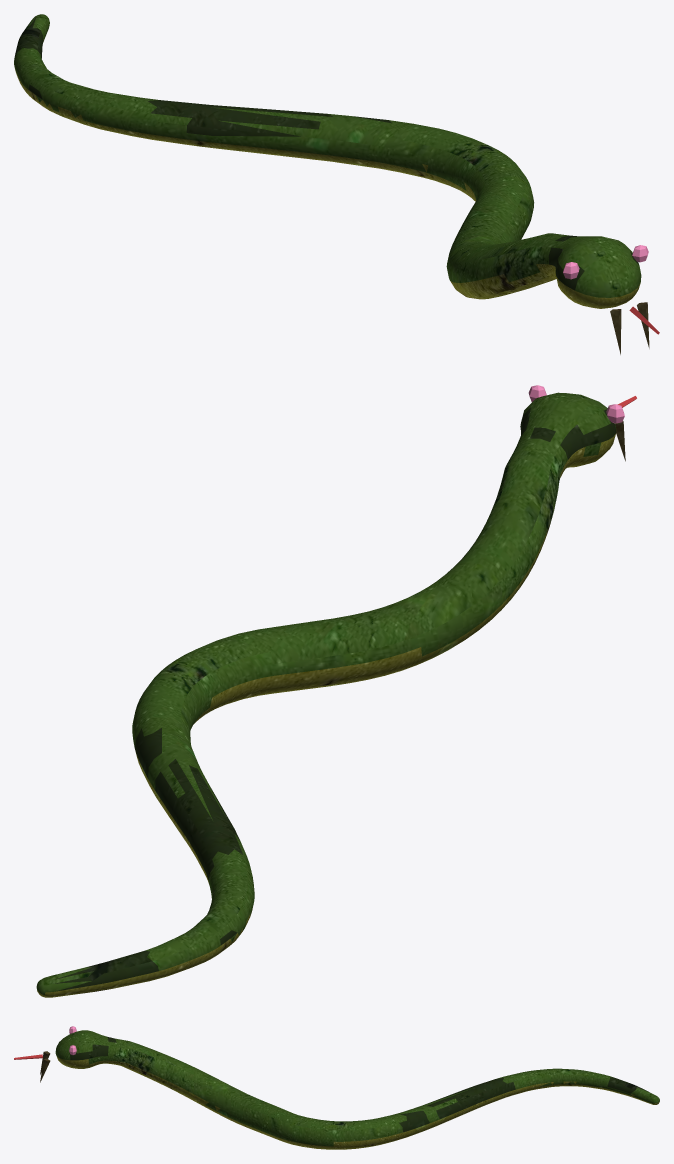
The model's file is mon_sp_grass_snake.glb.
3 renders of one model, top to bottom at view 1: azimuth 30°, elevation 25°; view 2: azimuth 150°, elevation 25°; view 3: azimuth 270°, elevation 25°, orthographic. The views are drawn at different scales.
Parts seen in each view (by area): view 1: mon_sp_grass_snake; view 2: mon_sp_grass_snake; view 3: mon_sp_grass_snake.
Boxes of the visible parts, <box> form: mon_sp_grass_snake: <box>14,14,659,354</box>; mon_sp_grass_snake: <box>36,385,636,997</box>; mon_sp_grass_snake: <box>14,1026,659,1149</box>.
Bounding box in the file's own units: 0.5845 × 0.3121 × 2.16.
Materials: 6 (4 with a texture image).
